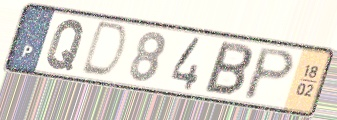4: (169, 36, 203, 92)
8: (128, 30, 168, 84)
B: (201, 39, 255, 99)
D: (76, 19, 131, 81)
P: (240, 46, 298, 103)
Q: (43, 18, 87, 73)
